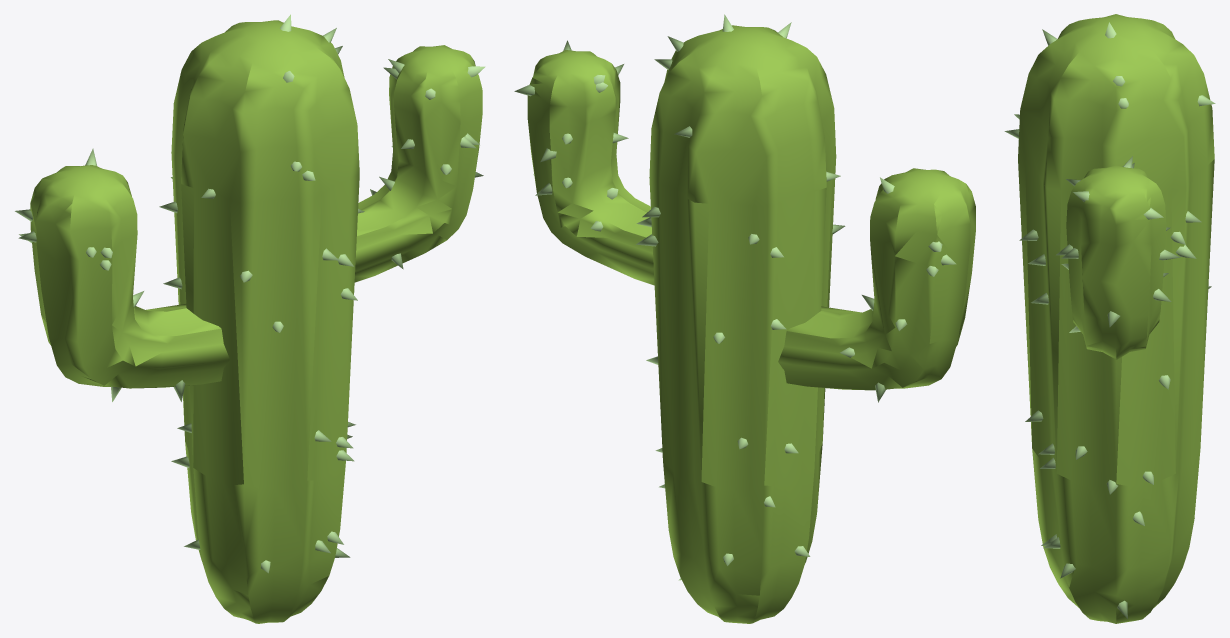
Rendered from Cactus_01_LOD1.fbx.
3 views of the same model, side by side, from view 1: azimuth 30°, elevation 25°; view 2: azimuth 150°, elevation 25°; view 3: azimuth 270°, elevation 25° (orthographic).
Visible parts, largest first — view 1: Cactus_01_LOD1_Mesh; view 2: Cactus_01_LOD1_Mesh; view 3: Cactus_01_LOD1_Mesh.
Part boxes in pixels (x1,y1,x2,y2): Cactus_01_LOD1_Mesh: (15, 14, 485, 623); Cactus_01_LOD1_Mesh: (514, 14, 975, 623); Cactus_01_LOD1_Mesh: (1004, 14, 1215, 623).
Size of the model in its own units: 3.36 by 4.31 by 1.37.
